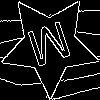M: (25, 20, 77, 77)
